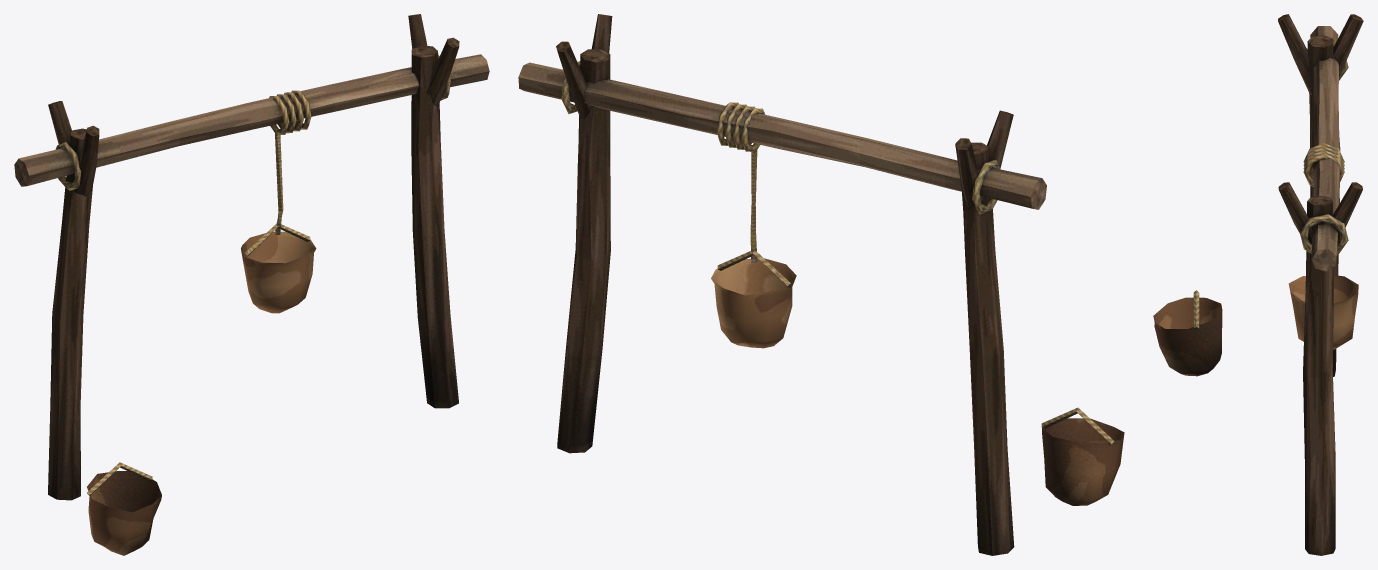
The model's file is dug_well_winch.gltf.
The picture shows the model from 3 angles, left to right: view 1: azimuth 30°, elevation 25°; view 2: azimuth 150°, elevation 25°; view 3: azimuth 270°, elevation 25°; orthographic projection. The views are drawn at different scales.
Visible parts, largest first — view 1: dug_well_winch; view 2: dug_well_winch; view 3: dug_well_winch.
Boxes of the visible parts, left/top/right/bottom form: dug_well_winch: left=14, top=14, right=489, bottom=555; dug_well_winch: left=518, top=14, right=1124, bottom=555; dug_well_winch: left=1153, top=14, right=1363, bottom=555.
Bounding box in the file's own units: 2.21 × 1.74 × 0.9061.
Materials: 4 (4 with a texture image).
